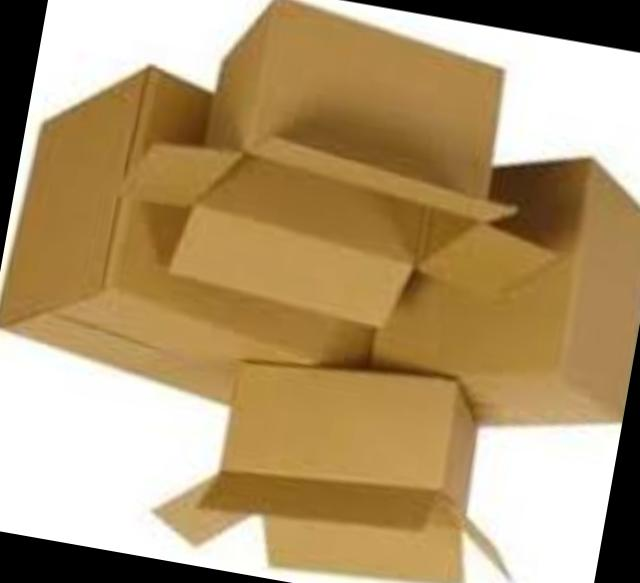cardboard paper: (115, 0, 570, 331), (0, 68, 373, 405), (151, 363, 508, 583), (364, 159, 640, 425)
